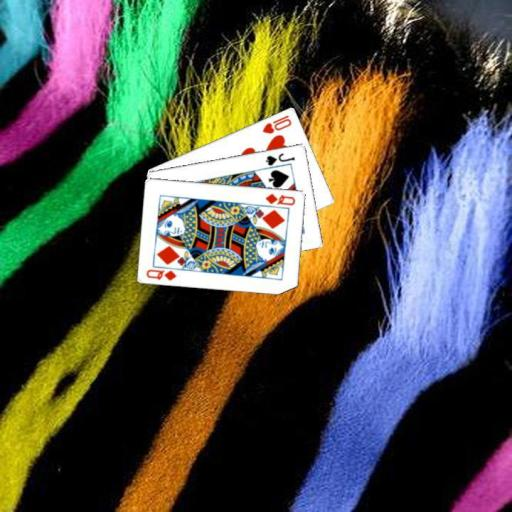10H: (260, 112, 293, 135)
JS: (263, 150, 297, 167)
QD: (263, 190, 297, 207), (144, 266, 179, 282)
